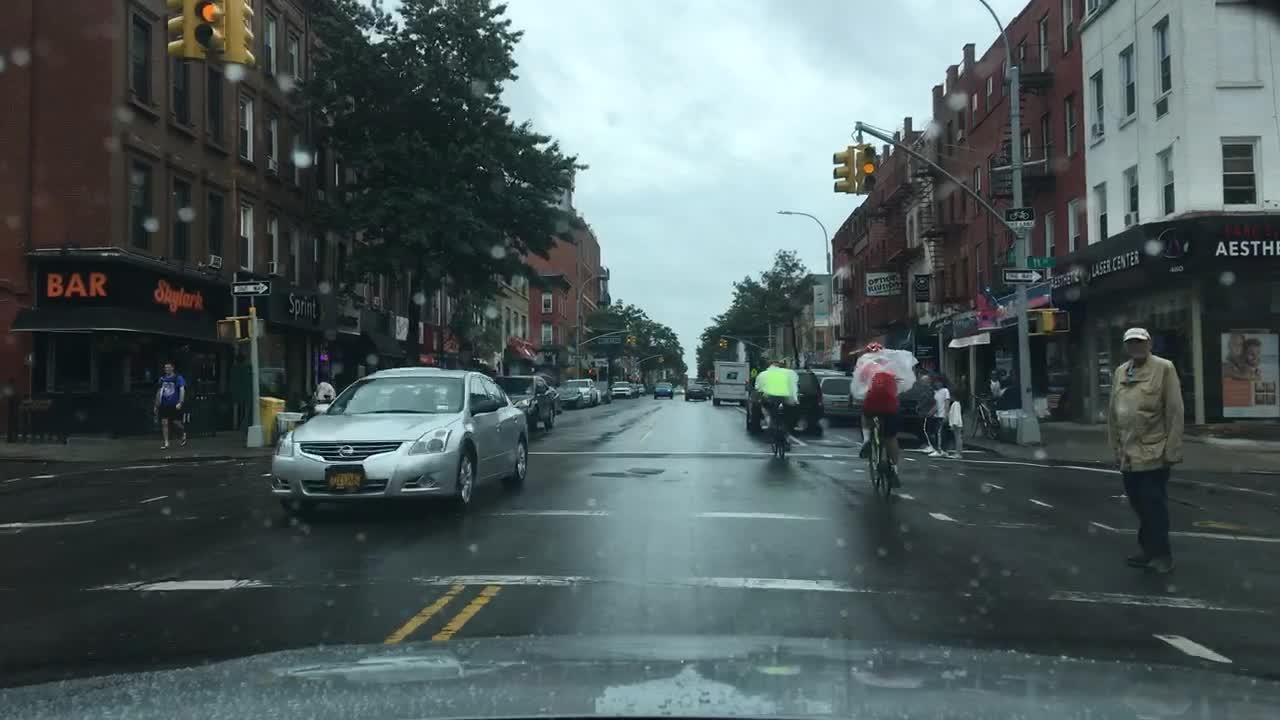Nissan: (331, 443, 360, 459)
